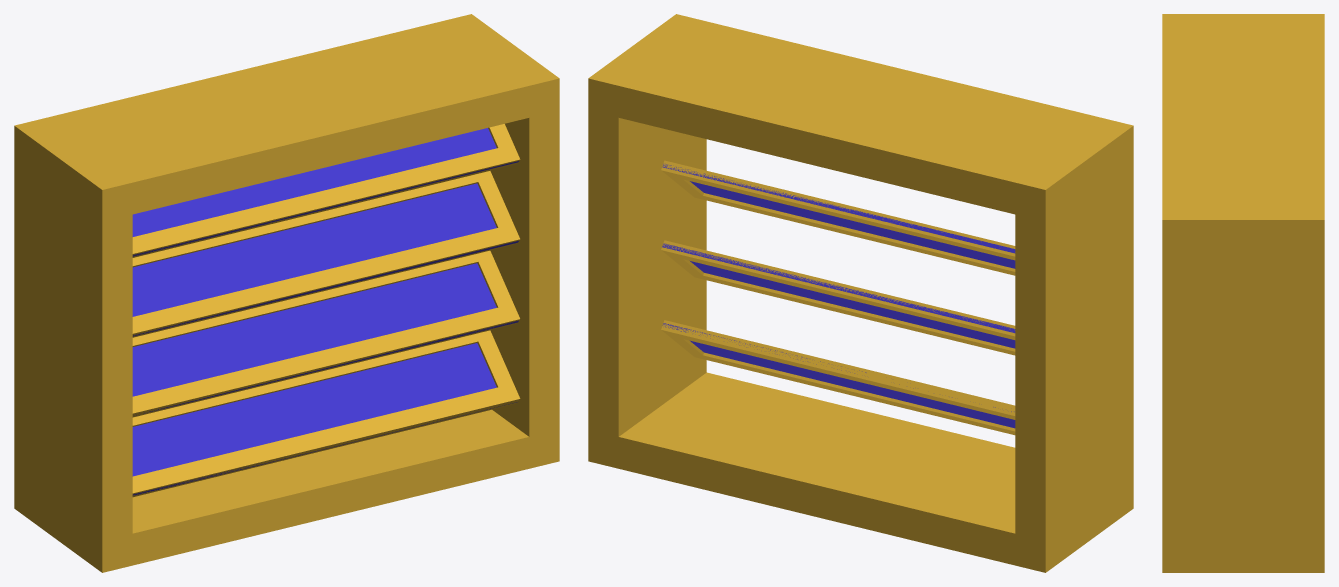
The model's file is 10_LiftAwningWindow.FBX.
The picture shows the model from 3 angles, left to right: view 1: azimuth 30°, elevation 25°; view 2: azimuth 150°, elevation 25°; view 3: azimuth 270°, elevation 25°; orthographic projection. The views are drawn at different scales.
Parts seen in each view (by area): view 1: 10_LiftAwningWindow; view 2: 10_LiftAwningWindow; view 3: 10_LiftAwningWindow.
Part boxes in pixels (box(x1,y1,x2,y2)): 10_LiftAwningWindow: box(14, 14, 559, 572); 10_LiftAwningWindow: box(588, 14, 1133, 572); 10_LiftAwningWindow: box(1162, 14, 1324, 572).
Bounding box in the file's own units: 76.2 × 60.96 × 25.4.
